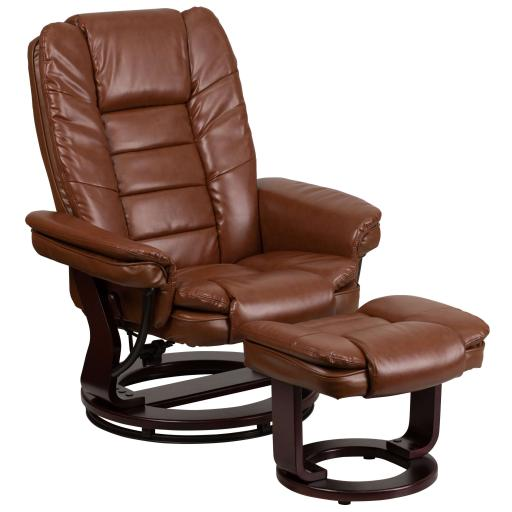chair: (24, 6, 490, 505), (24, 6, 382, 445), (240, 294, 490, 506)
